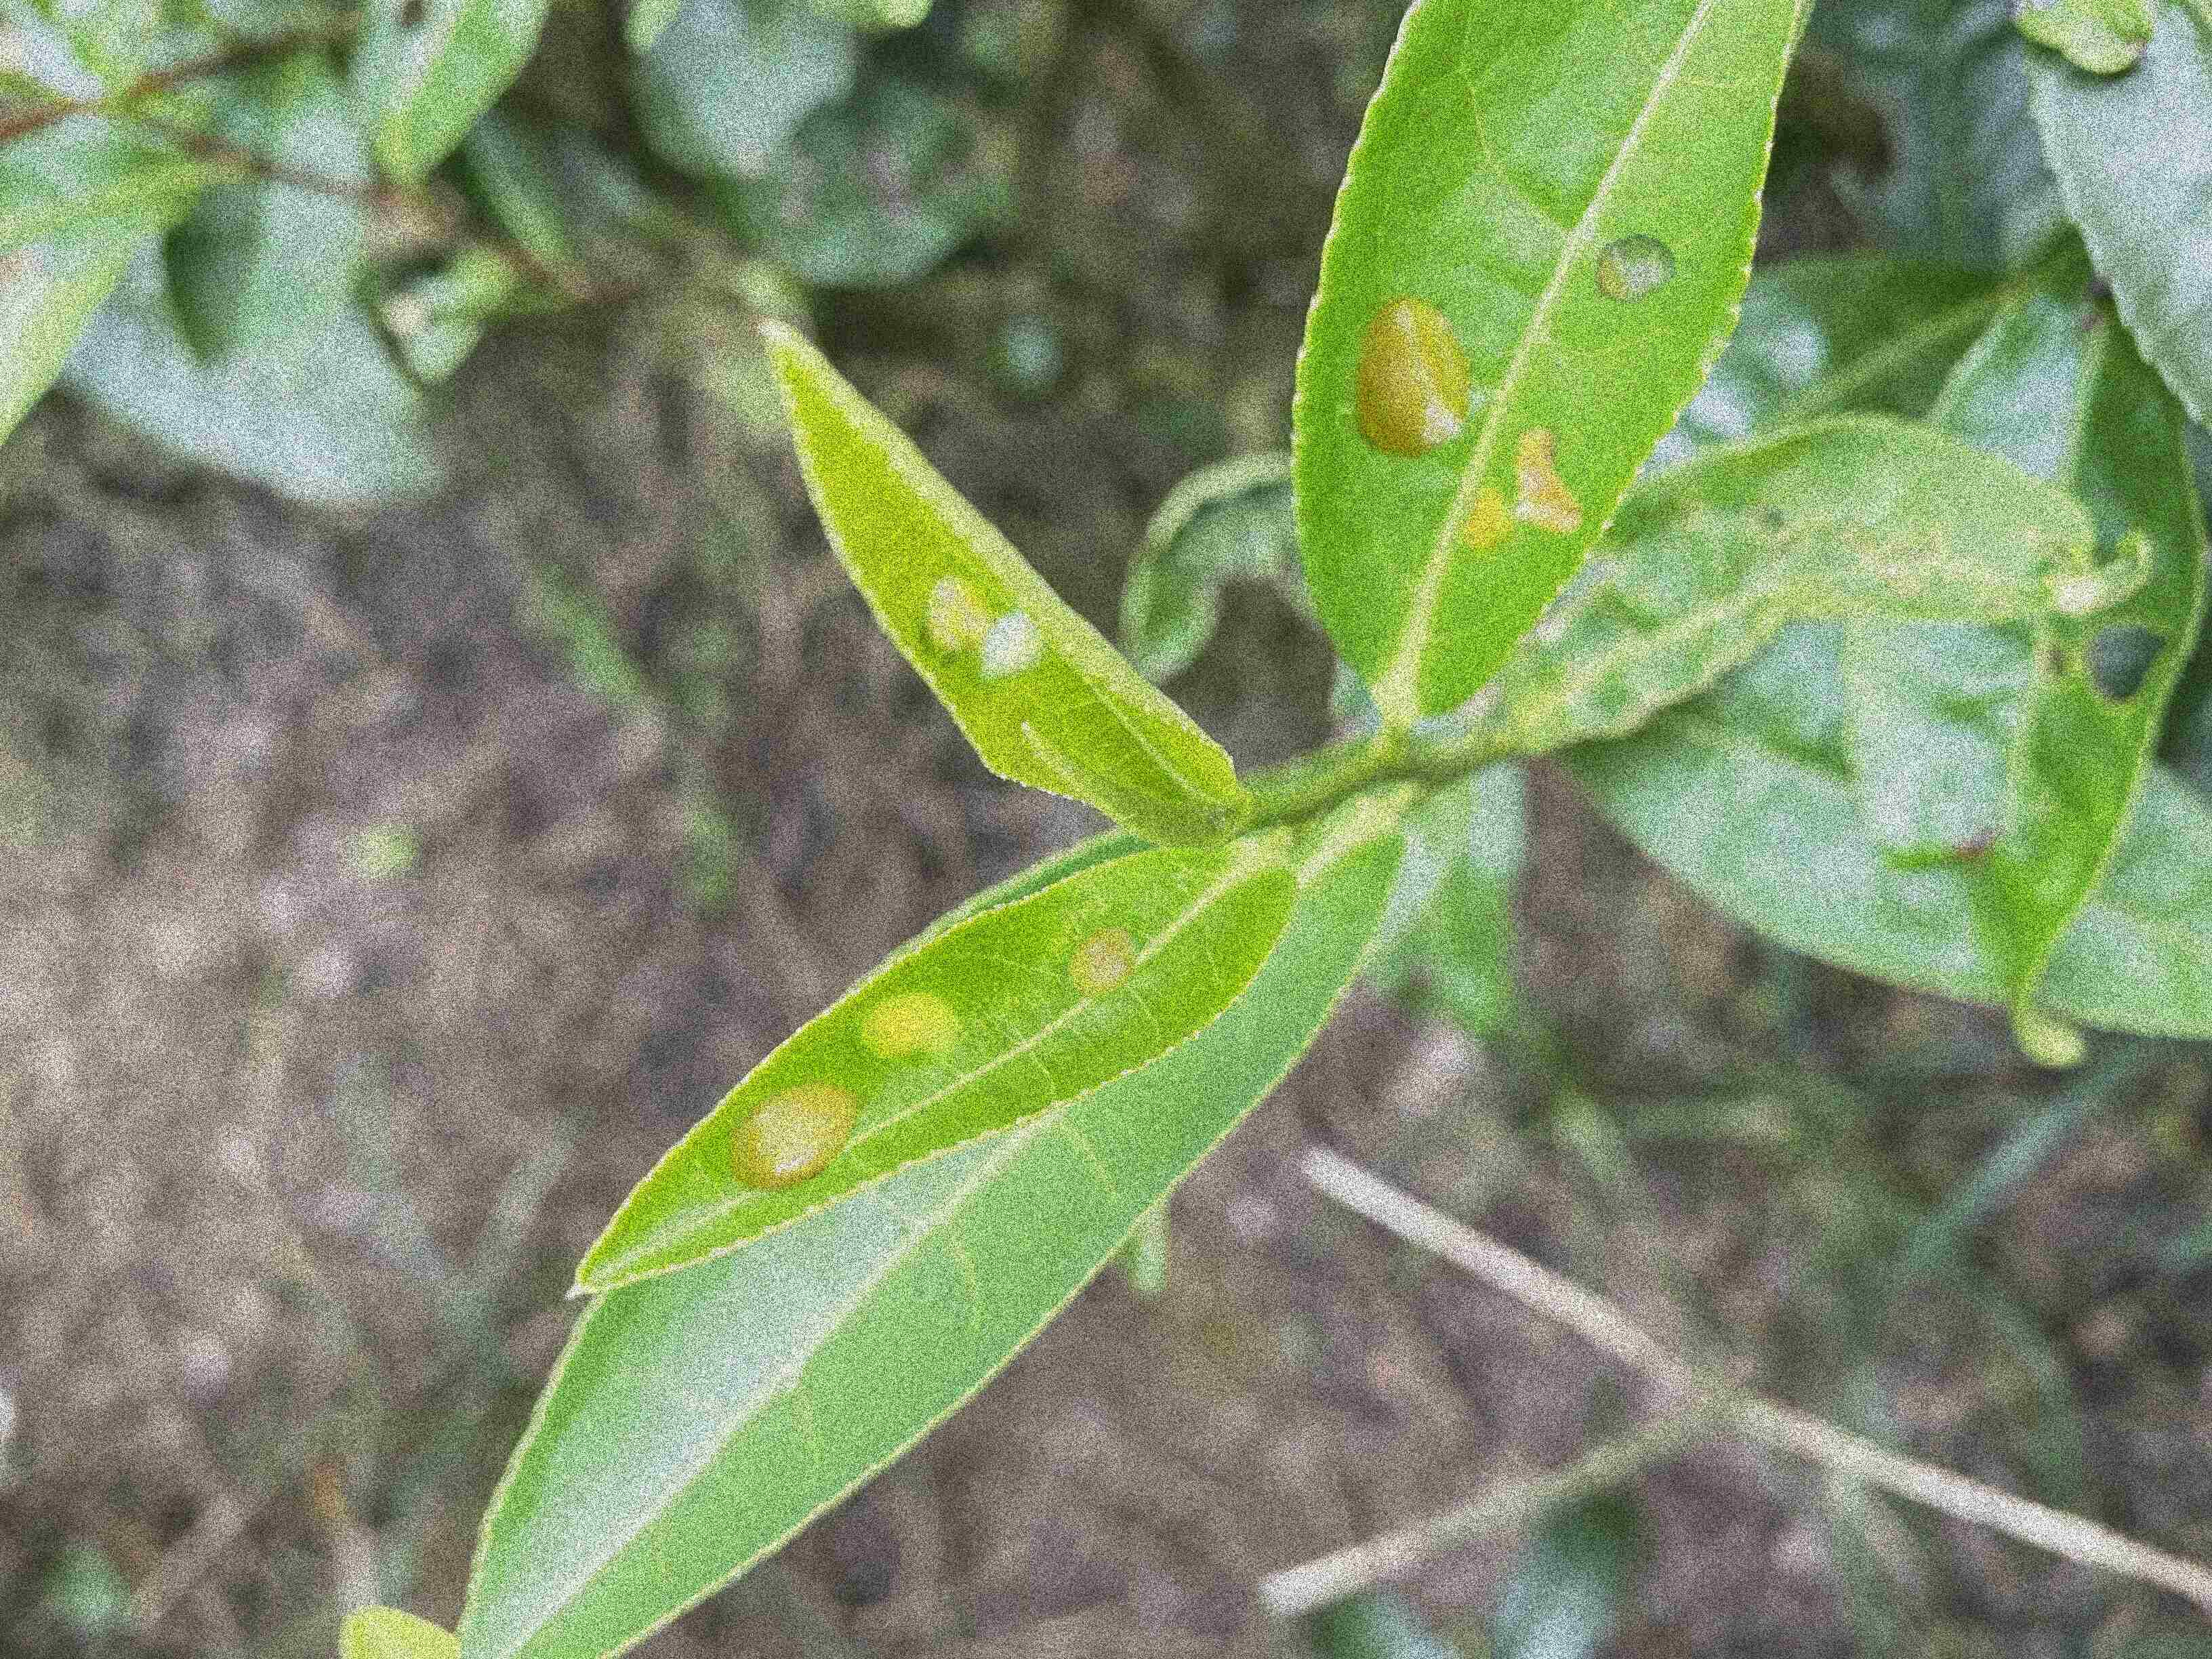chabing_high: (1285, 0, 1820, 721), (571, 838, 1301, 1297), (761, 326, 1249, 819)
